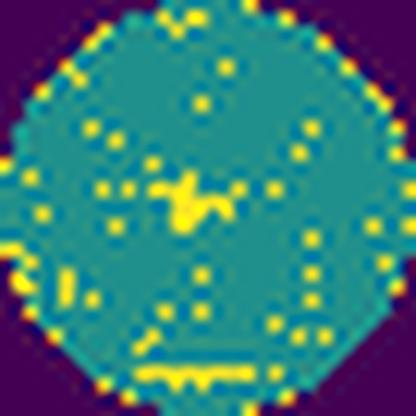Center: (147, 164, 244, 238)
